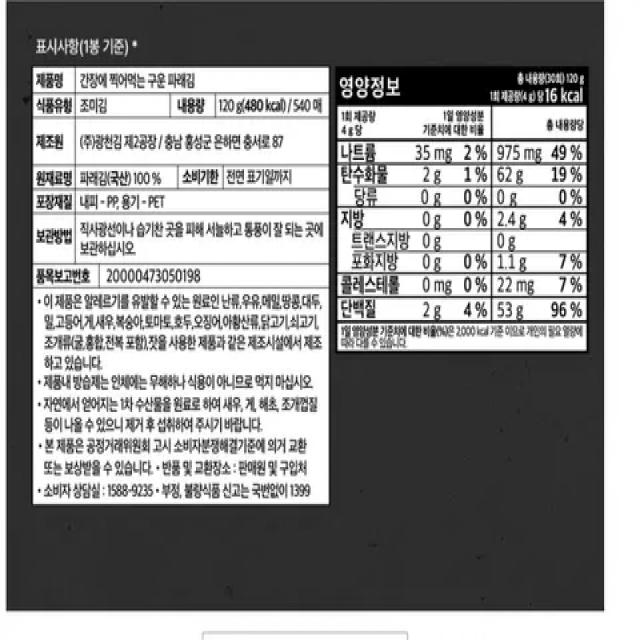Nutrition Label: (331, 59, 593, 368)
